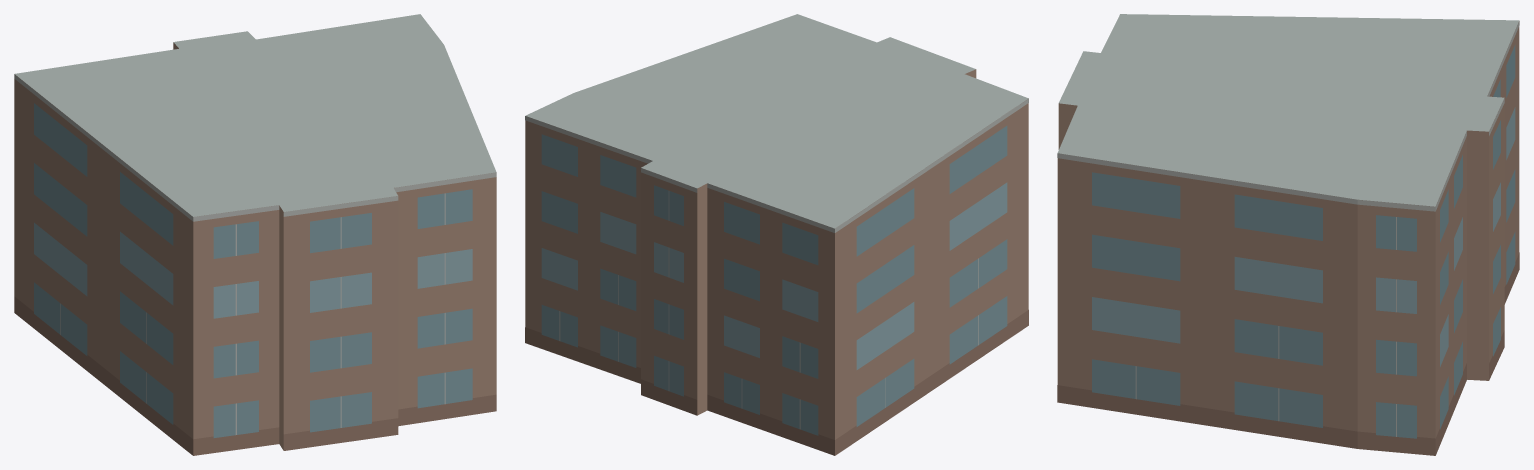
Rendered from survey-upis-32642451.glb.
3 renders of one model, left to right at view 1: azimuth 30°, elevation 25°; view 2: azimuth 150°, elevation 25°; view 3: azimuth 270°, elevation 25°, orthographic. The views are drawn at different scales.
Parts seen in each view (by area): view 1: survey-upis-32642451.tmp; view 2: survey-upis-32642451.tmp; view 3: survey-upis-32642451.tmp.
Boxes of the visible parts, x1=… form: survey-upis-32642451.tmp: x1=14, y1=14, x2=496, y2=455; survey-upis-32642451.tmp: x1=525, y1=14, x2=1028, y2=455; survey-upis-32642451.tmp: x1=1057, y1=14, x2=1519, y2=455.
Size of the model in its own units: 20.23 by 12.2 by 20.5.
